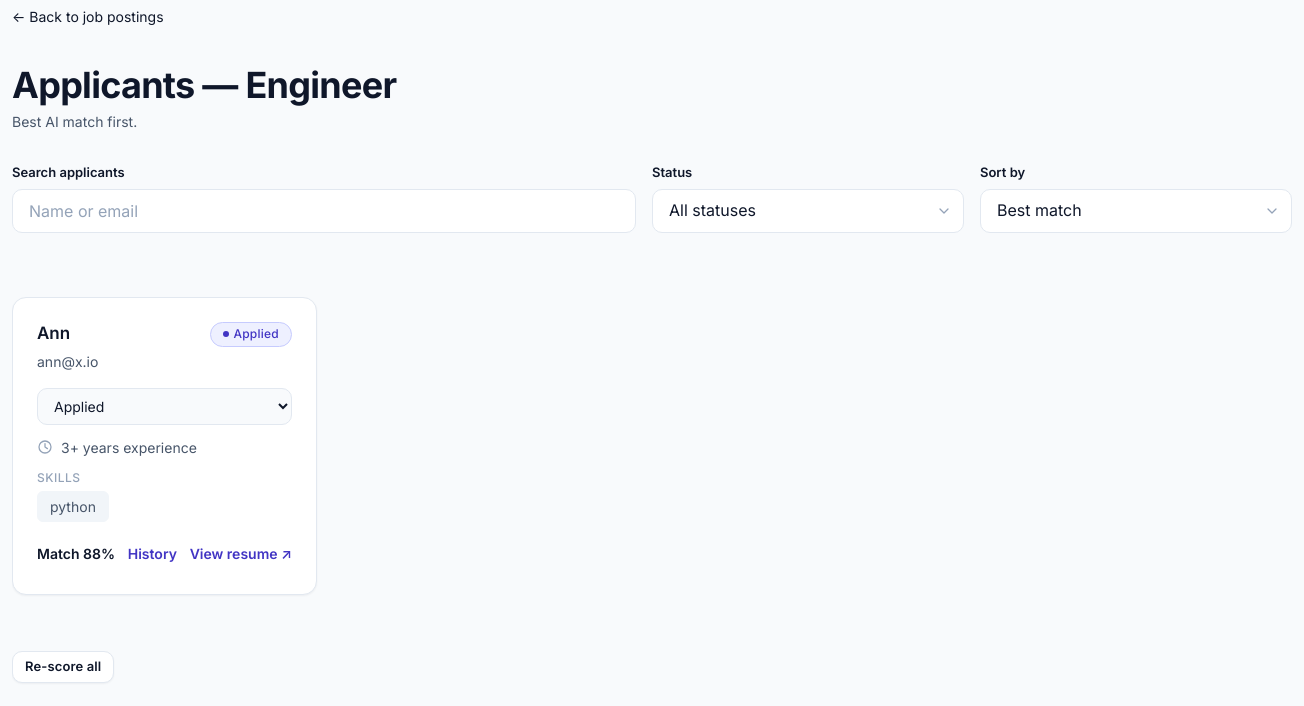
it: JobApplicants › updates status when confirmed and shows feedback
The image size is (1304, 706).
Select "Rejected" in the dropdown named "Pipeline status for Ann" at (164, 406), box [37,388,292,425]
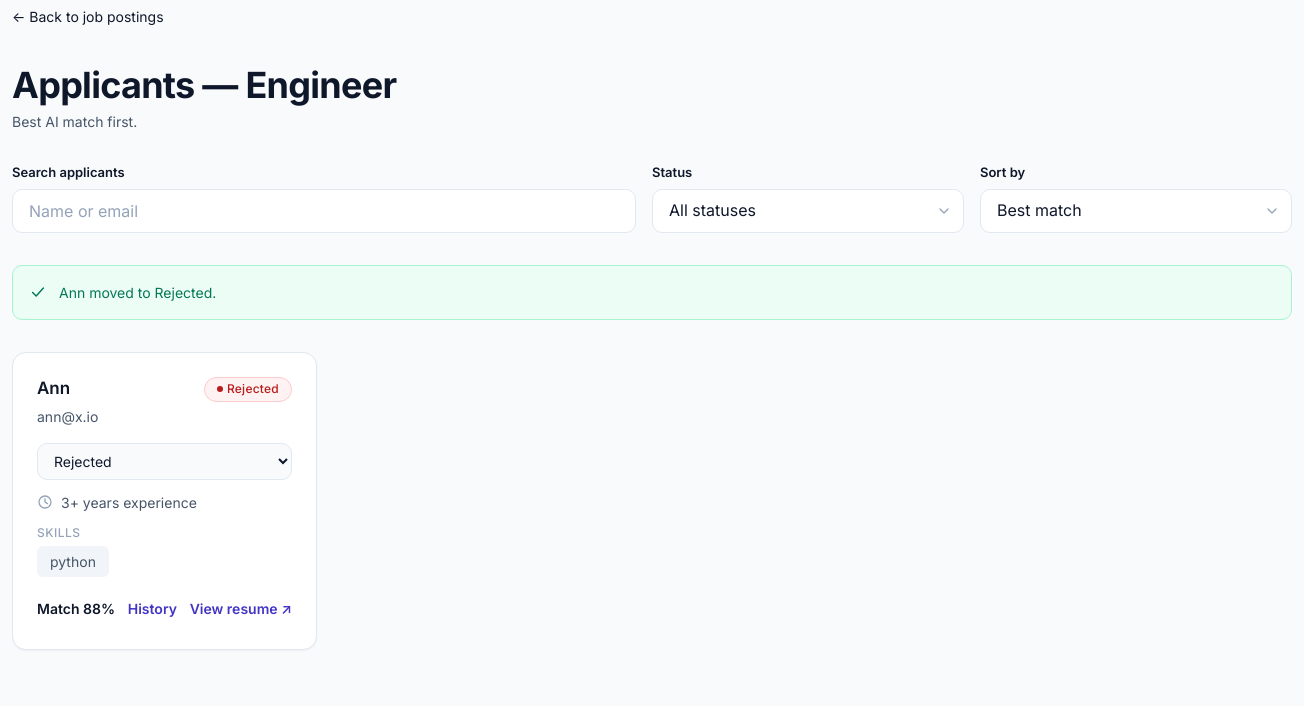
Check: the text "Ann moved to Rejected." is shown, box [59,282,216,303]
